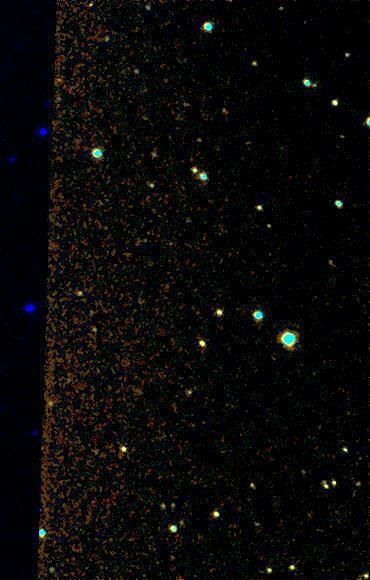star: (75, 0, 105, 20)
